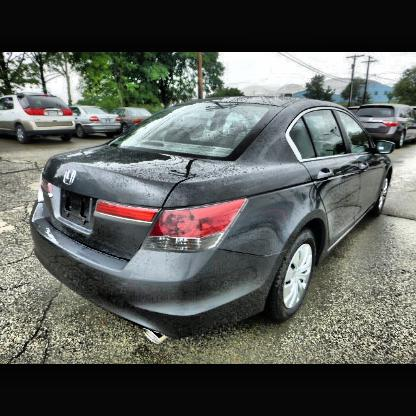Honda Accord Sedan 2012: (32, 98, 393, 347)
